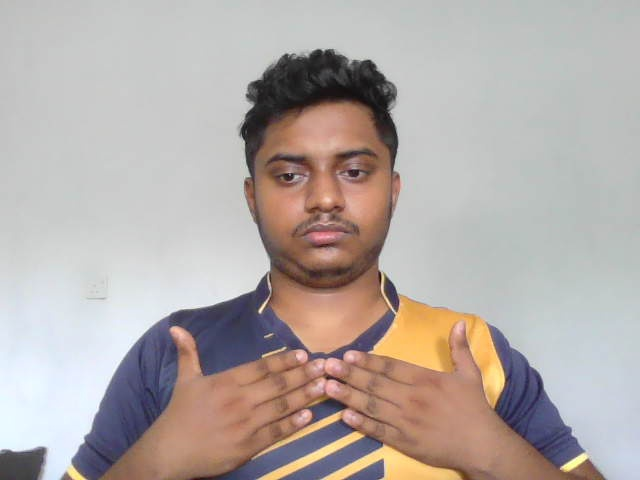Thank You: (145, 319, 494, 474)
